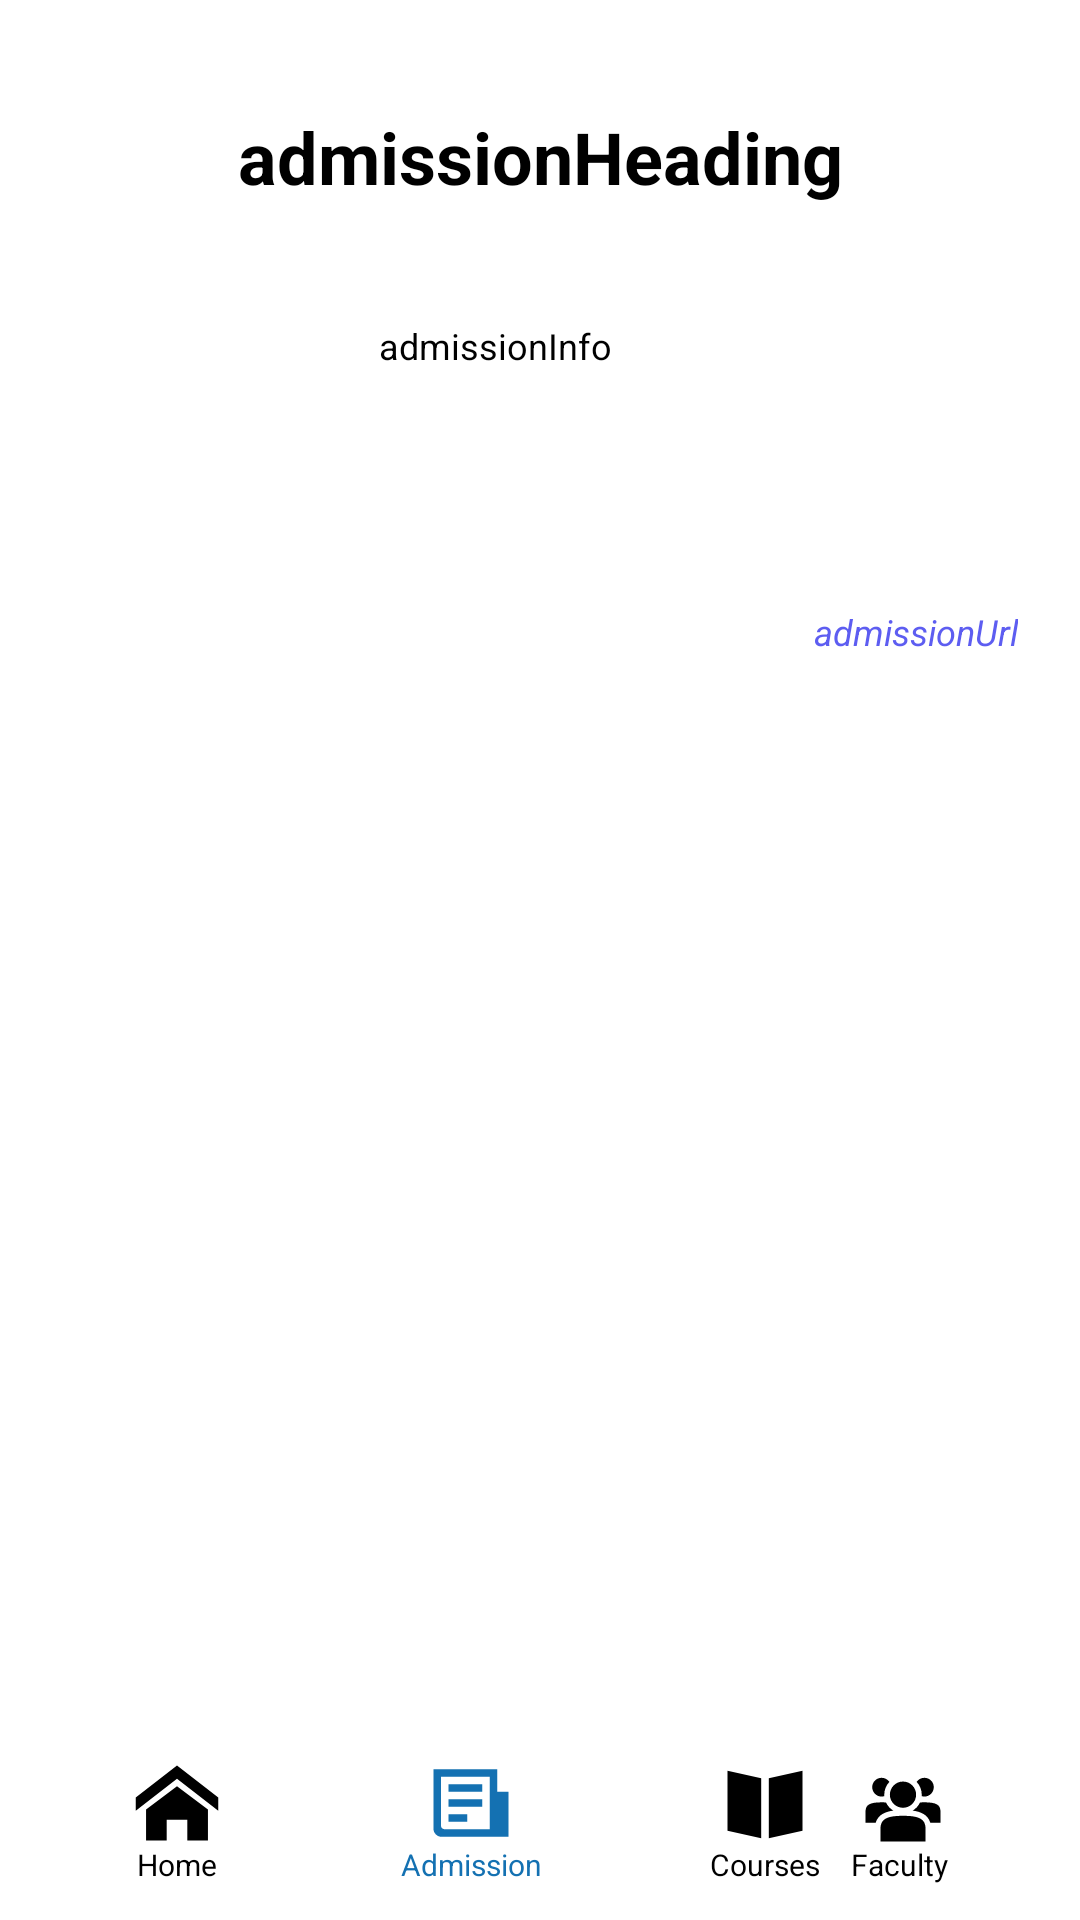

Icons on this 1080px x 1920px Android screen, each with the point to tap as point (x, y):
book: point (789, 1823)
staff: point (877, 1830)
